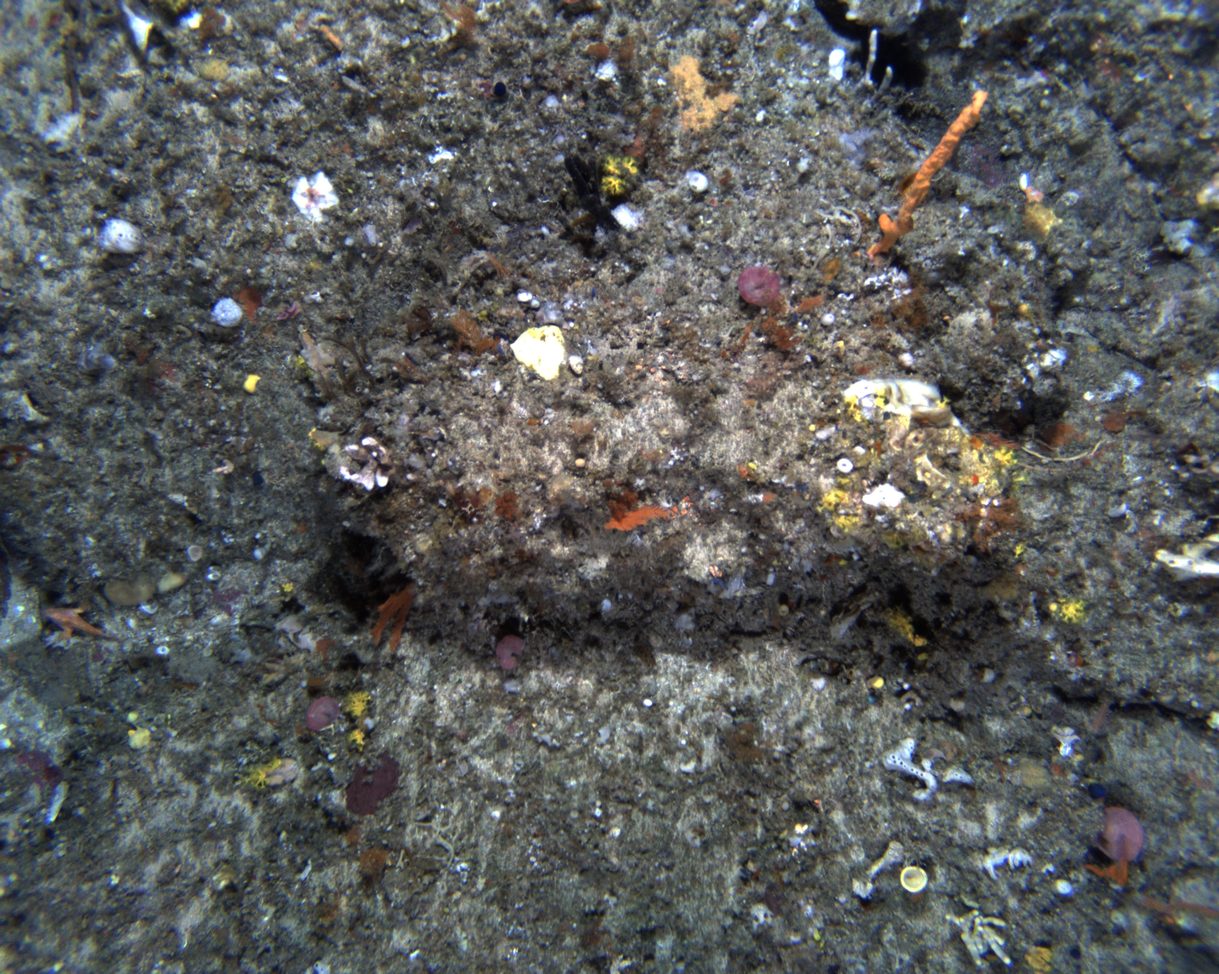Brachionichthyidae: (37, 601, 129, 649)
